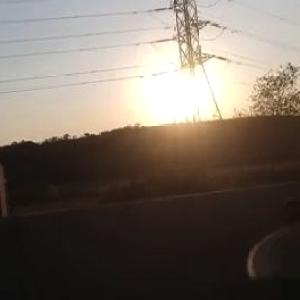follow: (265, 191, 300, 299)
